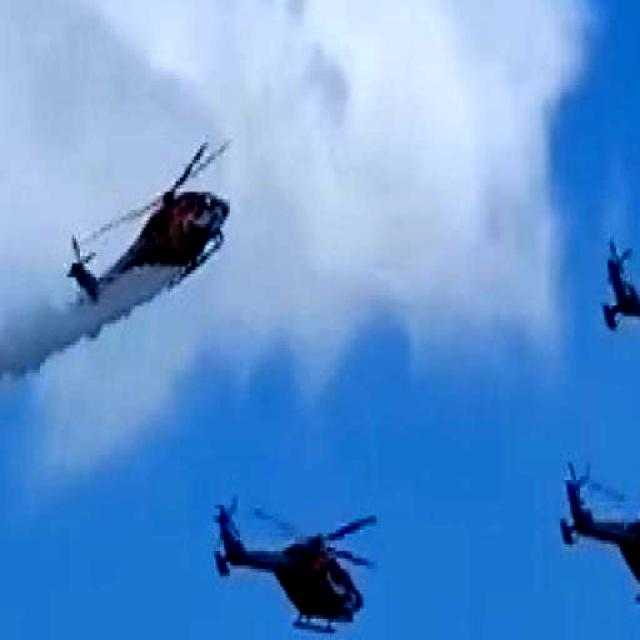drone: (60, 122, 241, 318), (208, 458, 372, 625), (545, 436, 640, 618), (581, 188, 640, 409)
